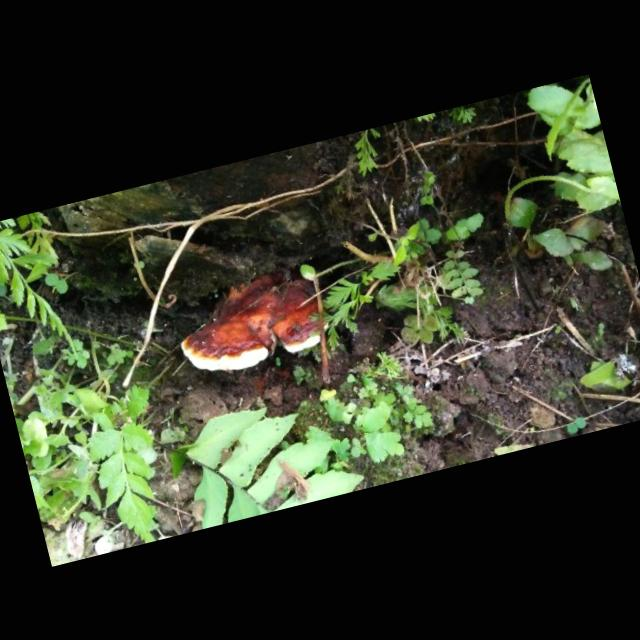ganoderma: (169, 262, 337, 386)
